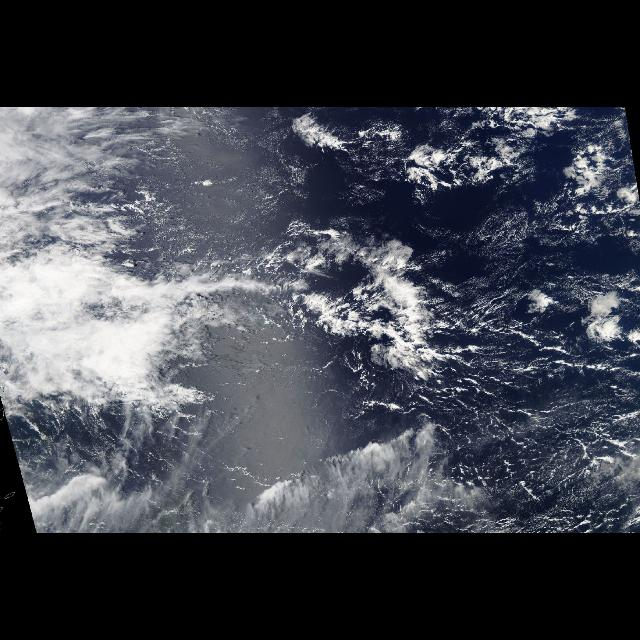Fish: (147, 198, 497, 406)
Flower: (285, 107, 637, 389)
Gravel: (432, 338, 634, 526)
Sugar: (137, 115, 636, 531)
